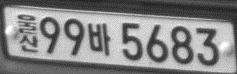3: (195, 26, 219, 66)
5: (121, 22, 143, 60)
6: (145, 23, 168, 63)
8: (170, 25, 194, 64)
9: (62, 17, 85, 57), (38, 15, 60, 53)
바: (87, 21, 111, 56)
울산_V: (16, 13, 38, 52)
